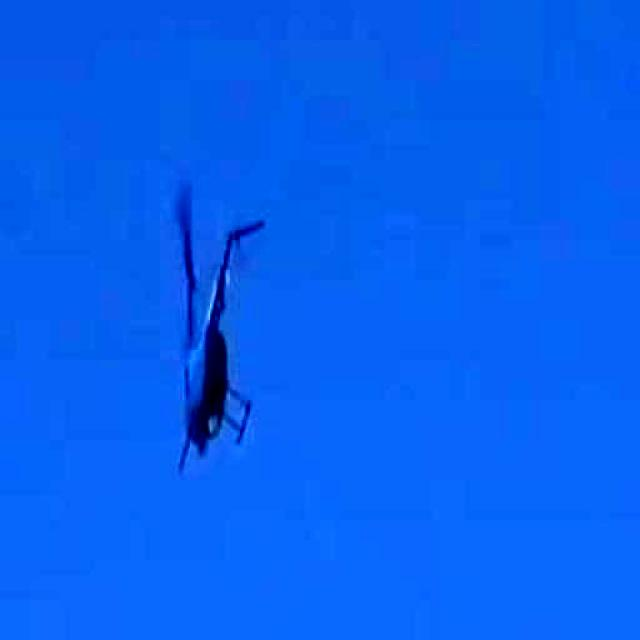drone: (84, 186, 322, 490)
